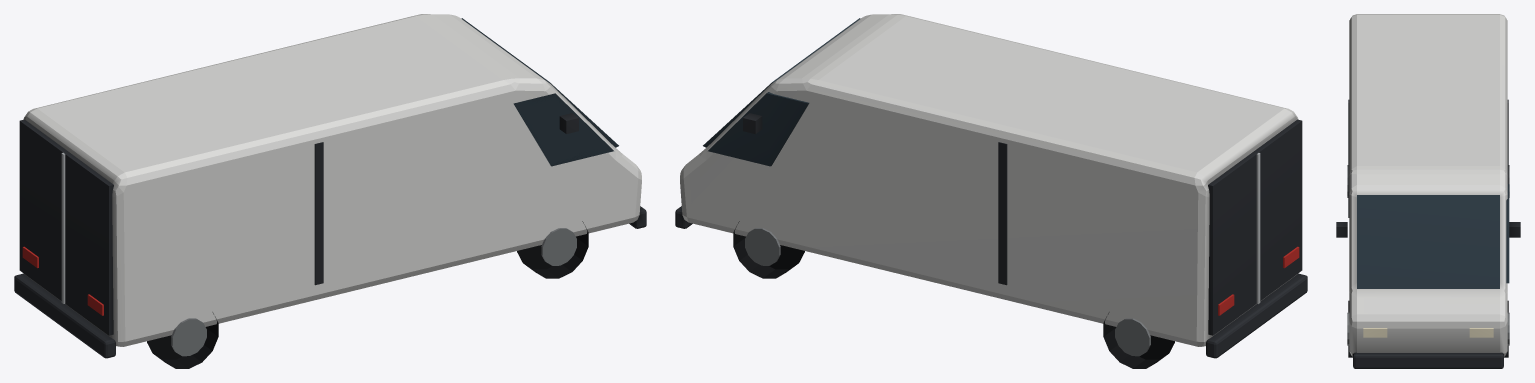
The model's file is furgoneta-DUpJD6xn.glb.
3 views of the same model, side by side, from view 1: azimuth 30°, elevation 25°; view 2: azimuth 150°, elevation 25°; view 3: azimuth 270°, elevation 25° (orthographic). The views are drawn at different scales.
Parts seen in each view (by area): view 1: carroceria, pieza, vidrio, pieza.004, pieza.002, rueda.004, rueda, rueda.001, rueda.005, pieza.001; view 2: carroceria, pieza, vidrio.001, pieza.004, pieza.002, rueda.006, rueda.002, rueda.003, rueda.007, pieza.001; view 3: carroceria, vidrio.002, pieza.003, pieza.002, vidrio.001, pieza.007, pieza.009, pieza.005, pieza.006.
Part boxes in pixels (x1,y1,x2,y2): carroceria: [23, 14, 641, 346]; pieza: [19, 119, 113, 335]; vidrio: [513, 93, 613, 166]; pieza.004: [14, 273, 115, 358]; pieza.002: [314, 142, 323, 285]; rueda.004: [517, 221, 588, 278]; rueda: [147, 312, 218, 368]; rueda.001: [171, 318, 206, 356]; rueda.005: [541, 228, 576, 265]; pieza.001: [61, 152, 65, 303]; carroceria: [680, 14, 1298, 346]; pieza: [1208, 119, 1302, 335]; vidrio.001: [708, 92, 809, 166]; pieza.004: [1206, 273, 1307, 358]; pieza.002: [998, 142, 1007, 285]; rueda.006: [733, 221, 804, 278]; rueda.002: [1103, 312, 1174, 368]; rueda.003: [1115, 318, 1150, 356]; rueda.007: [745, 228, 780, 265]; pieza.001: [1256, 153, 1260, 303]; carroceria: [1349, 14, 1507, 356]; vidrio.002: [1357, 195, 1499, 288]; pieza.003: [1353, 352, 1503, 368]; pieza.002: [1348, 99, 1508, 217]; vidrio.001: [1506, 184, 1509, 283]; pieza.007: [1363, 328, 1387, 337]; pieza.009: [1469, 328, 1493, 337]; pieza.005: [1336, 222, 1347, 237]; pieza.006: [1509, 222, 1520, 237].
Bounding box in the file's own units: 6.45 × 2.35 × 2.32.
